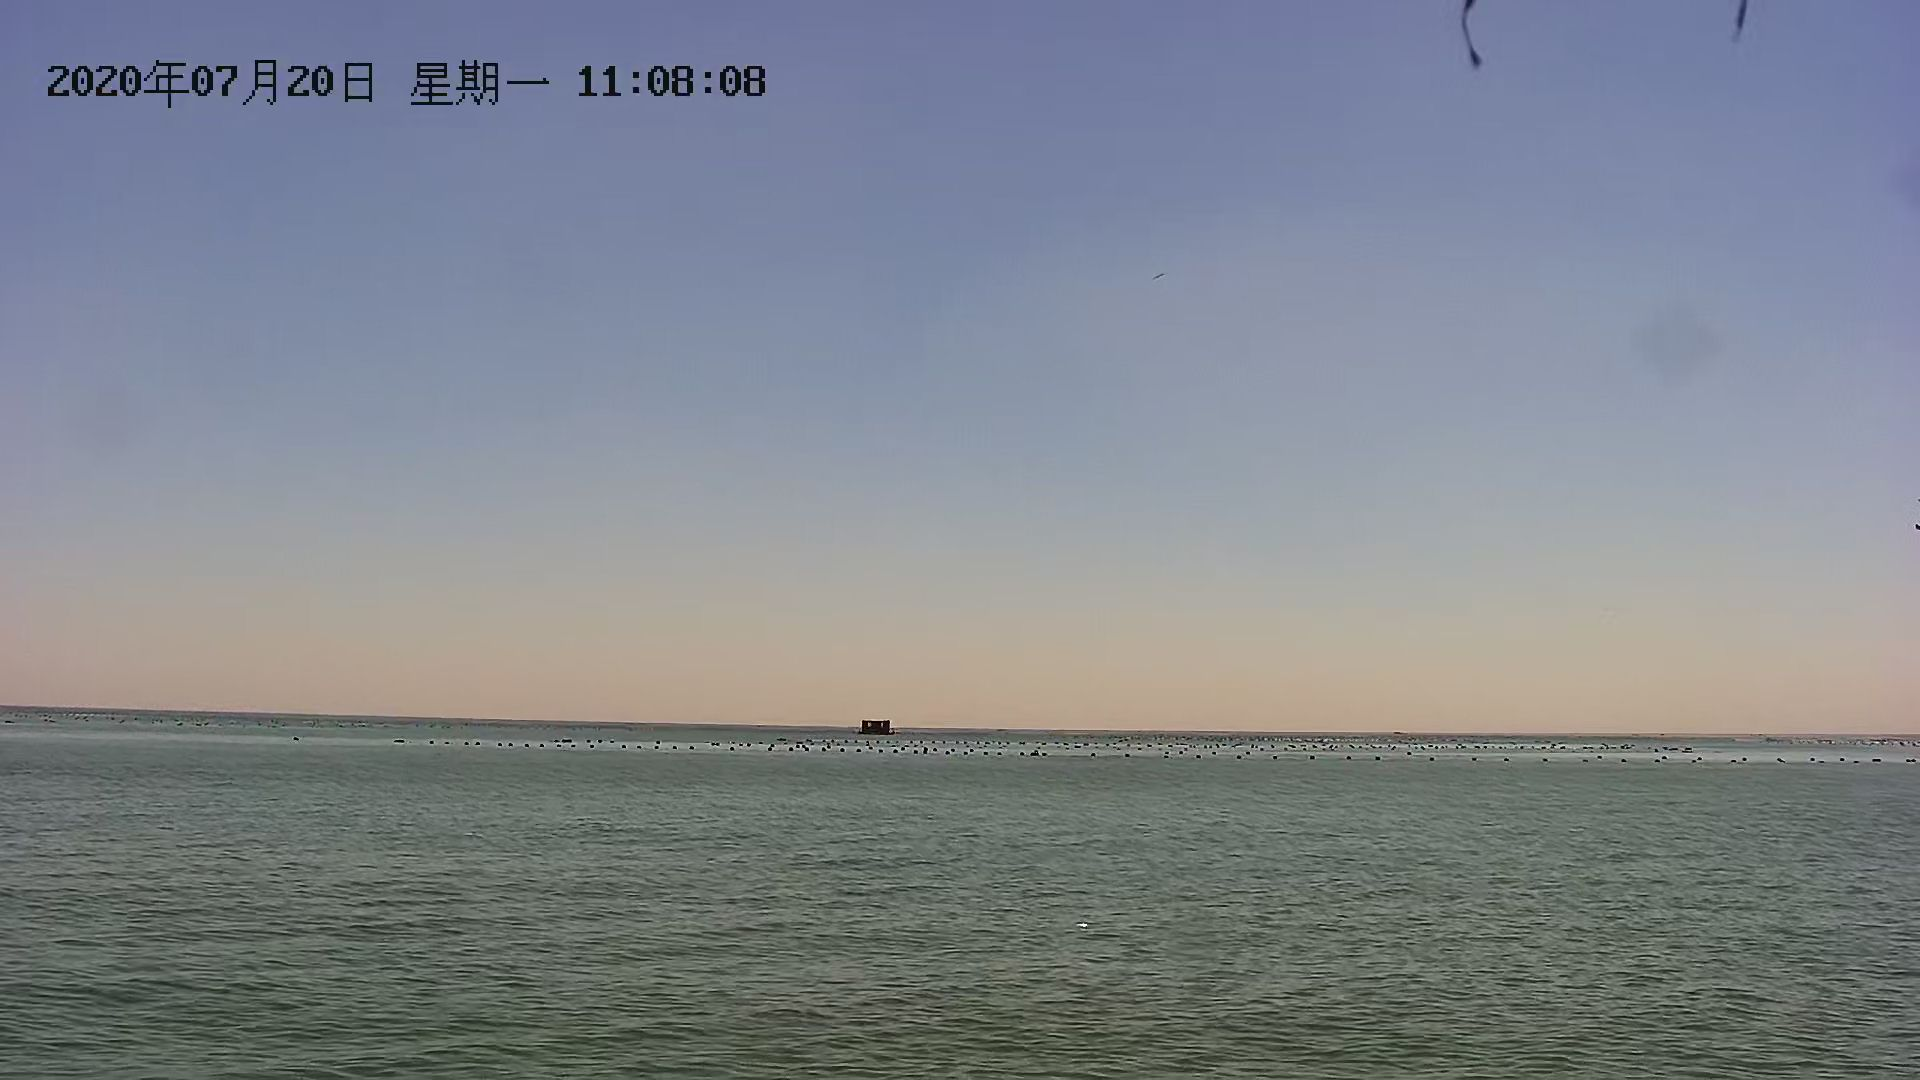platform: (853, 713, 897, 742)
